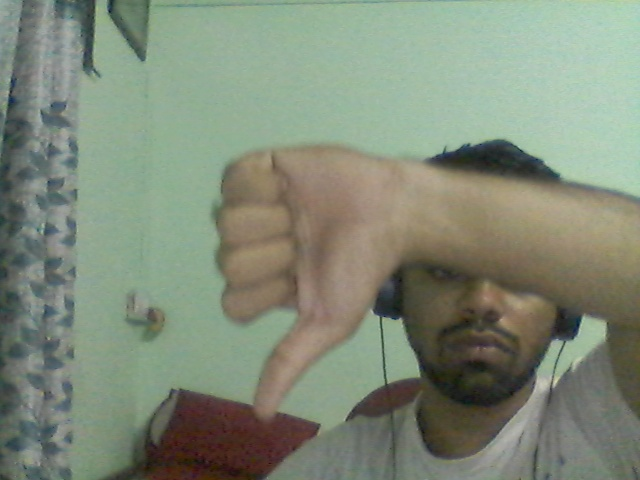No: (199, 95, 448, 444)
